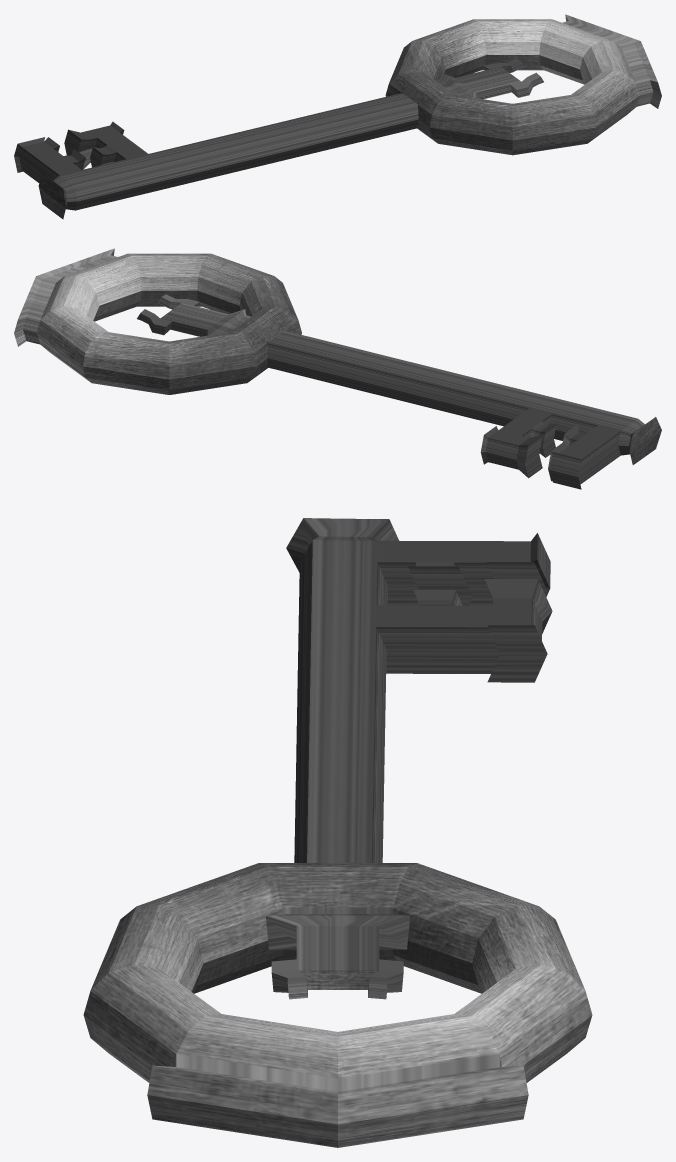
File: key.fbx
3 renders of one model, top to bottom at view 1: azimuth 30°, elevation 25°; view 2: azimuth 150°, elevation 25°; view 3: azimuth 270°, elevation 25°, orthographic. The views are drawn at different scales.
Parts seen in each view (by area): view 1: Key; view 2: Key; view 3: Key.
Part boxes in pixels (x1,y1,x2,y2): Key: (14,14,661,219); Key: (14,248,661,489); Key: (83,518,592,1147).
Bounding box in the file's own units: 26.85 × 2.03 × 10.01.
